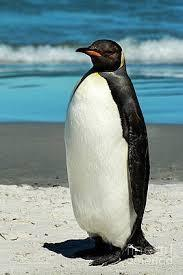king: (51, 29, 183, 272)
